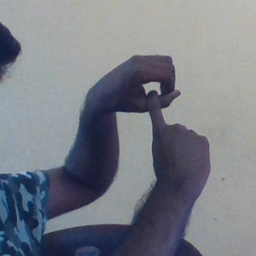Q: (88, 53, 215, 176)
